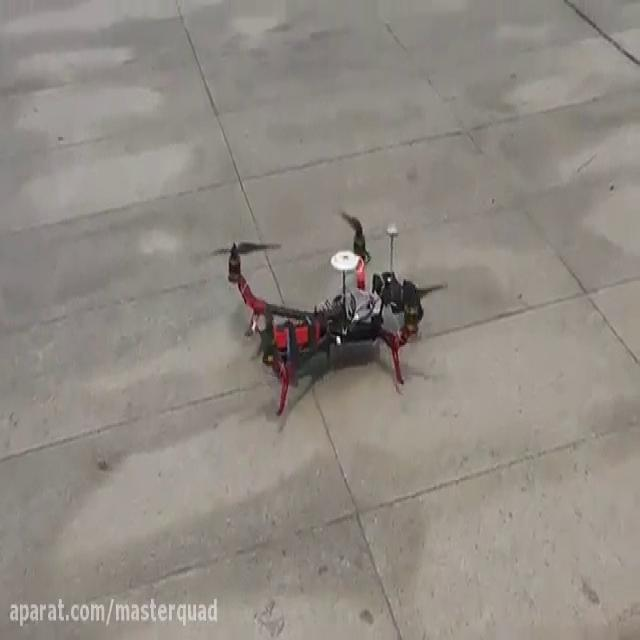drone: (192, 199, 451, 418)
